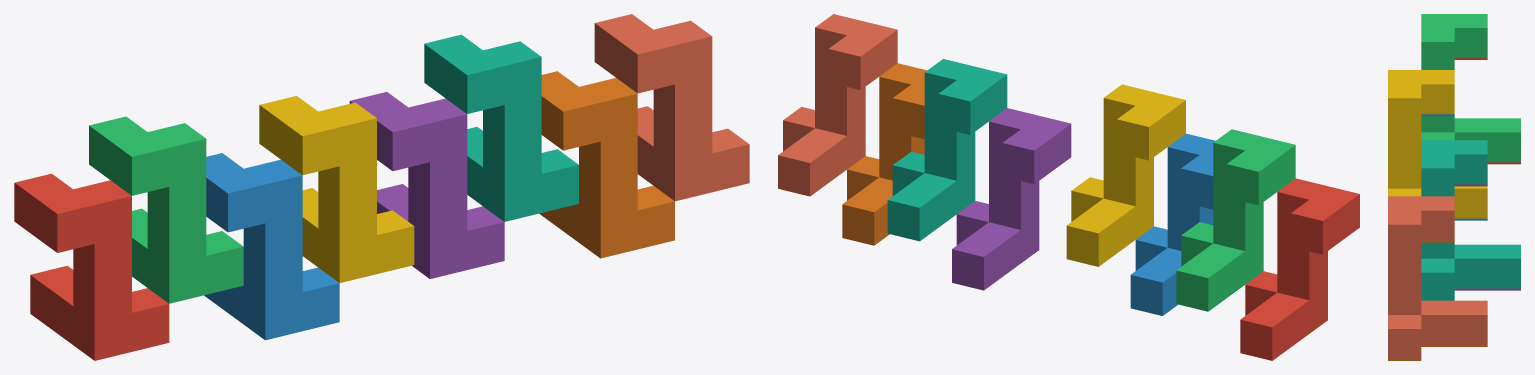
File: tiling.obj
3 renders of one model, left to right at view 1: azimuth 30°, elevation 25°; view 2: azimuth 150°, elevation 25°; view 3: azimuth 270°, elevation 25°, orthographic. The views are drawn at different scales.
Parts seen in each view (by area): view 1: copy_1_domain_1, copy_1_domain_8, copy_1_domain_4, copy_1_domain_3, copy_1_domain_7, copy_1_domain_2, copy_1_domain_6, copy_1_domain_5; view 2: copy_1_domain_7, copy_1_domain_5, copy_1_domain_4, copy_1_domain_1, copy_1_domain_3, copy_1_domain_8, copy_1_domain_2, copy_1_domain_6; view 3: copy_1_domain_8, copy_1_domain_7, copy_1_domain_4, copy_1_domain_3, copy_1_domain_6, copy_1_domain_5, copy_1_domain_2, copy_1_domain_1.
Part boxes in pixels (x1,y1,x2,y2): copy_1_domain_1: (14, 173, 169, 360); copy_1_domain_8: (594, 14, 749, 201); copy_1_domain_4: (259, 96, 414, 282); copy_1_domain_3: (89, 116, 243, 303); copy_1_domain_7: (424, 34, 578, 221); copy_1_domain_2: (204, 153, 339, 340); copy_1_domain_6: (539, 71, 674, 258); copy_1_domain_5: (349, 92, 504, 278); copy_1_domain_7: (887, 59, 1007, 241); copy_1_domain_5: (952, 108, 1071, 290); copy_1_domain_4: (1066, 84, 1185, 266); copy_1_domain_1: (1240, 178, 1359, 360); copy_1_domain_3: (1176, 129, 1295, 311); copy_1_domain_8: (778, 14, 897, 196); copy_1_domain_2: (1130, 133, 1215, 315); copy_1_domain_6: (842, 63, 926, 245); copy_1_domain_8: (1388, 196, 1487, 358); copy_1_domain_7: (1421, 140, 1520, 300); copy_1_domain_4: (1388, 70, 1487, 218); copy_1_domain_3: (1421, 14, 1520, 162); copy_1_domain_6: (1388, 240, 1487, 360); copy_1_domain_5: (1454, 184, 1520, 290); copy_1_domain_2: (1421, 114, 1487, 220); copy_1_domain_1: (1454, 58, 1520, 164).
Size of the model in its own units: 18 by 5 by 4.
